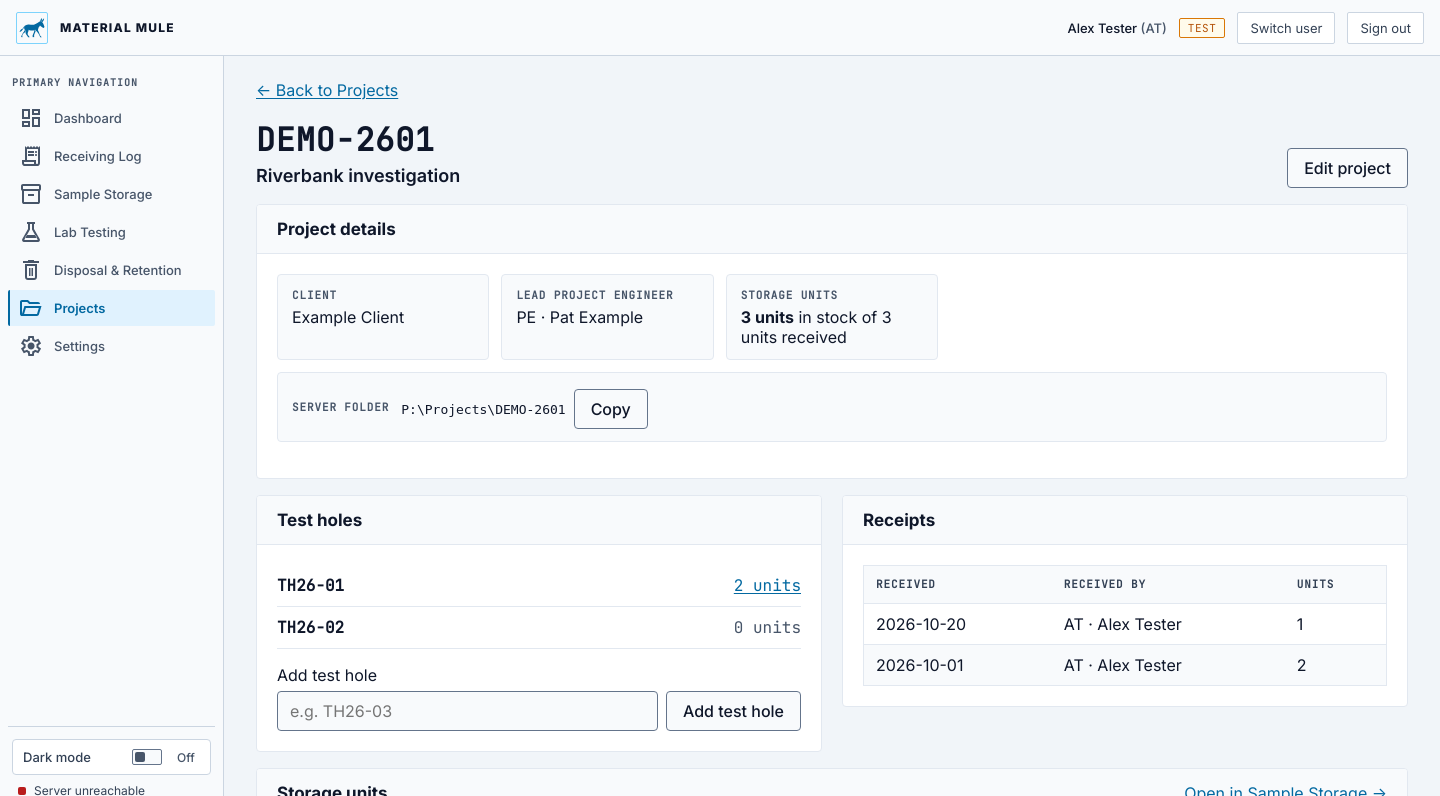
Project detail (MM-T35) › adds a test hole and reports a duplicate
The image size is (1440, 796).
Type "th26-01 " into the field labelled "Add test hole" at (468, 711), box [277,691,658,731]
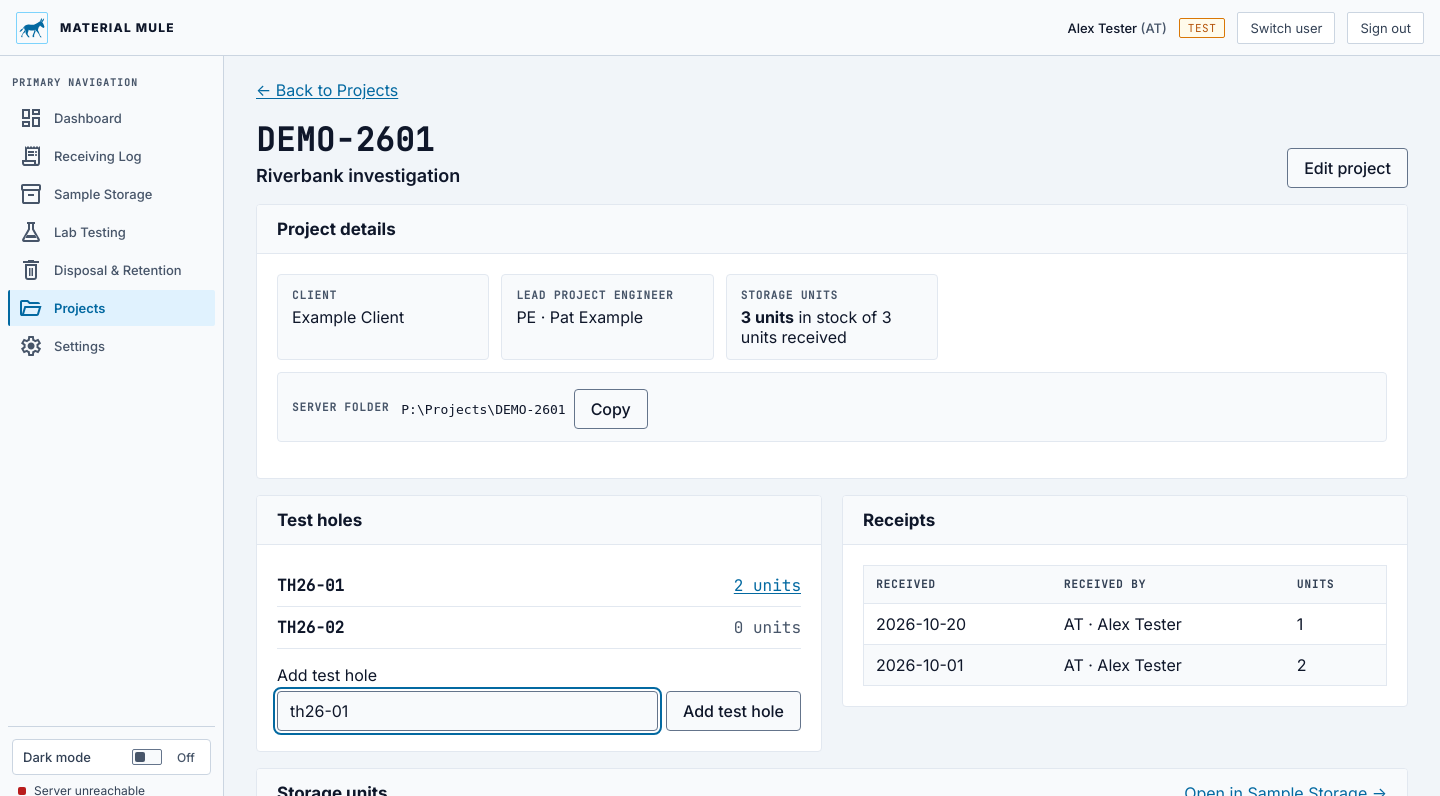
Click the button "Add test hole" at (734, 711), box [666,691,801,731]
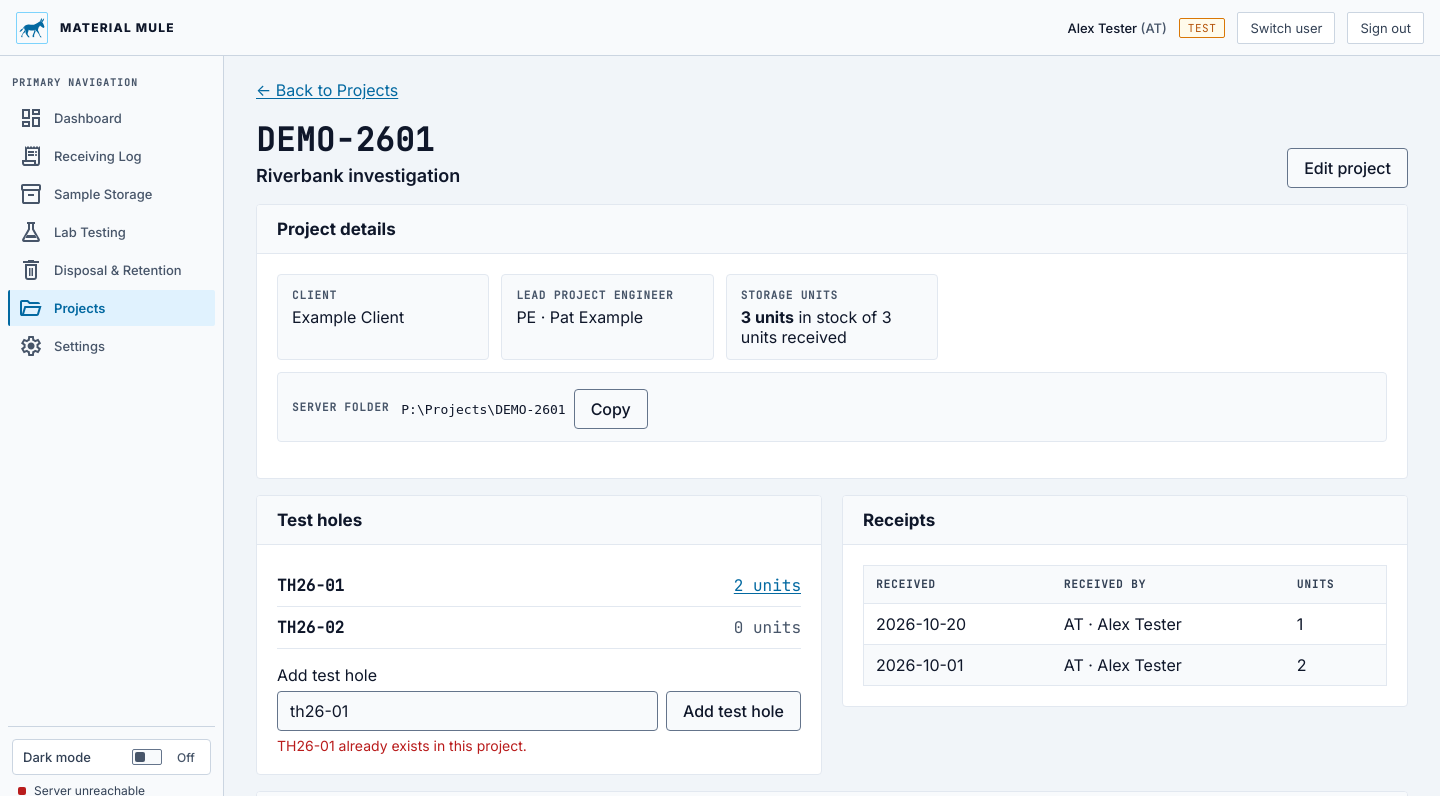
Now the message reads "TH26-01 already exists in this project.", box [277,737,527,754]
Replace the text in the field labelled "Add test hole" with "TH26-03" at (468, 711), box [277,691,658,731]
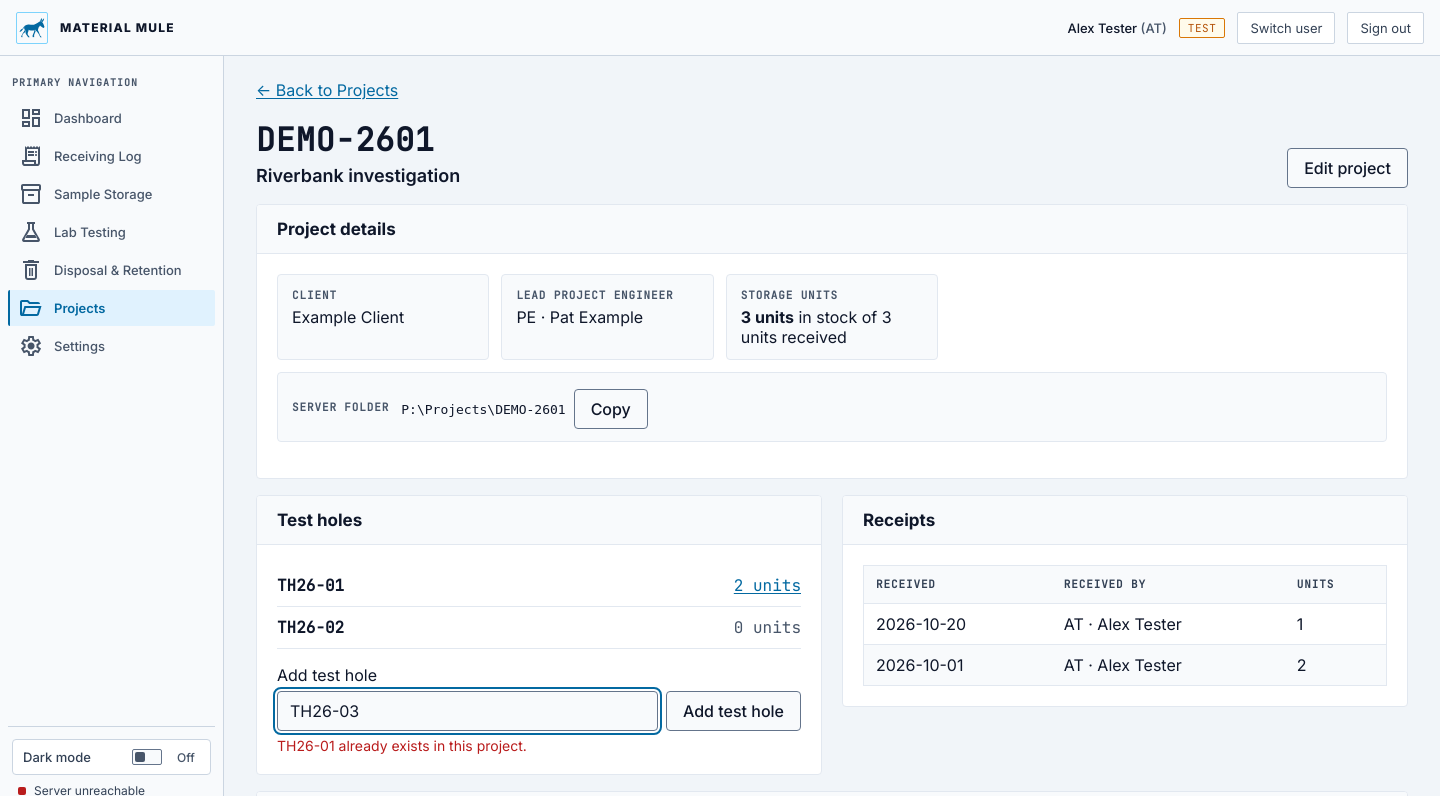
Click the button "Add test hole" at (734, 711), box [666,691,801,731]
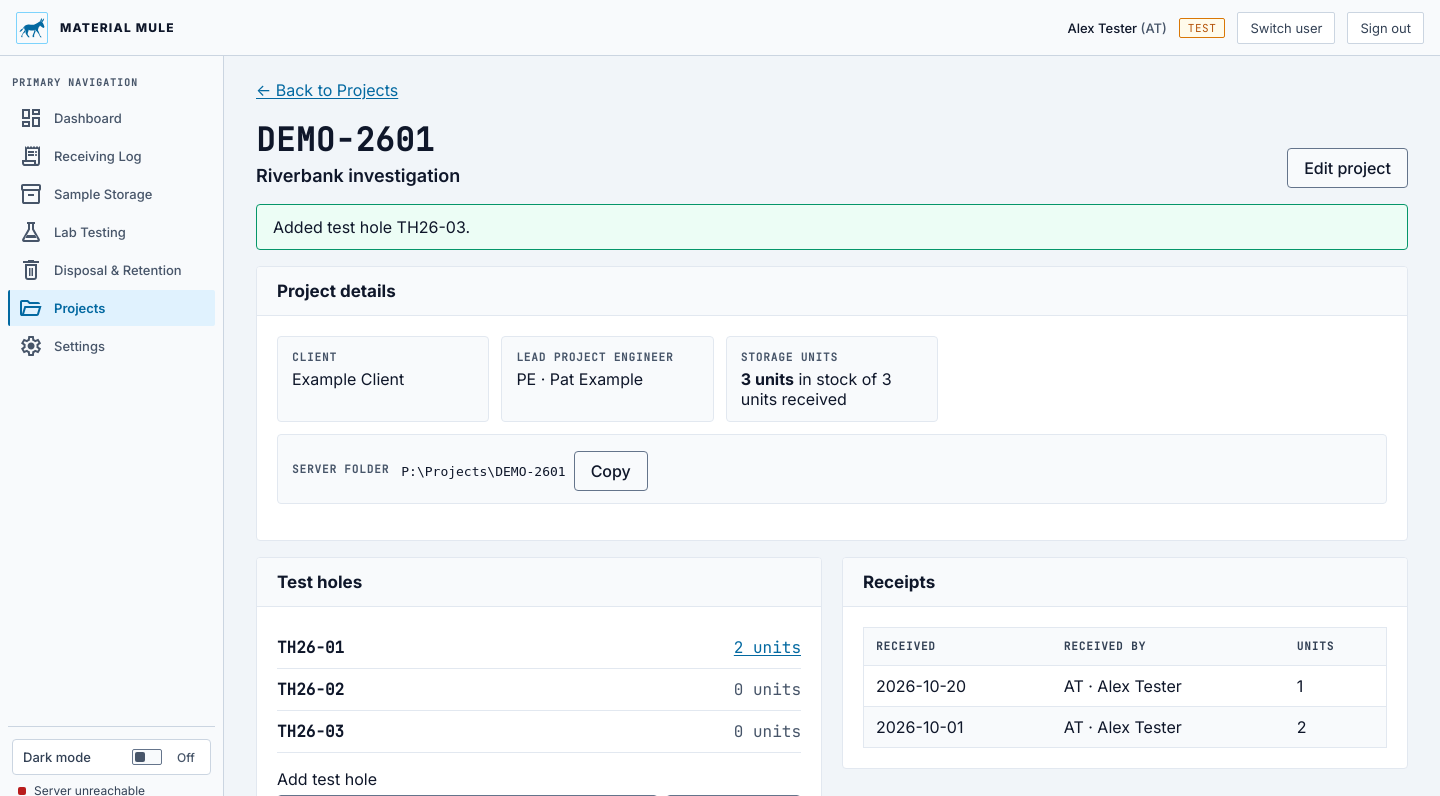
Now the text "Added test hole TH26-03." is shown, box [256,204,1408,250]
Now the text "TH26-03" is shown, box [277,721,344,742]
